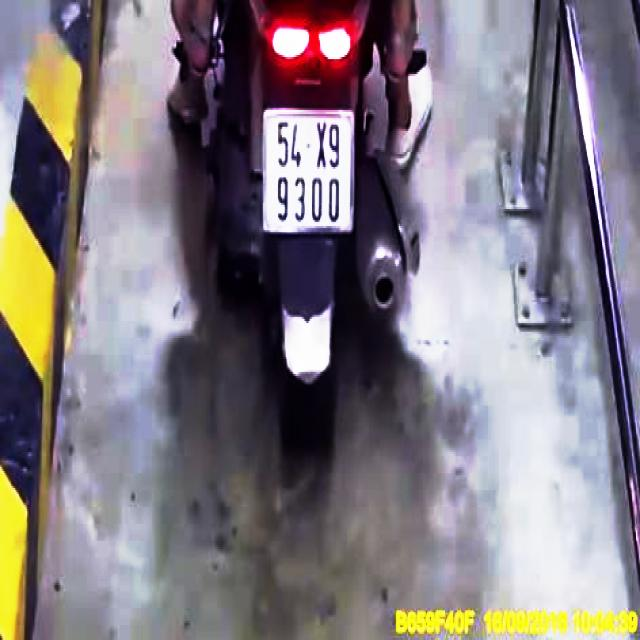license_plate: (266, 113, 357, 231)
